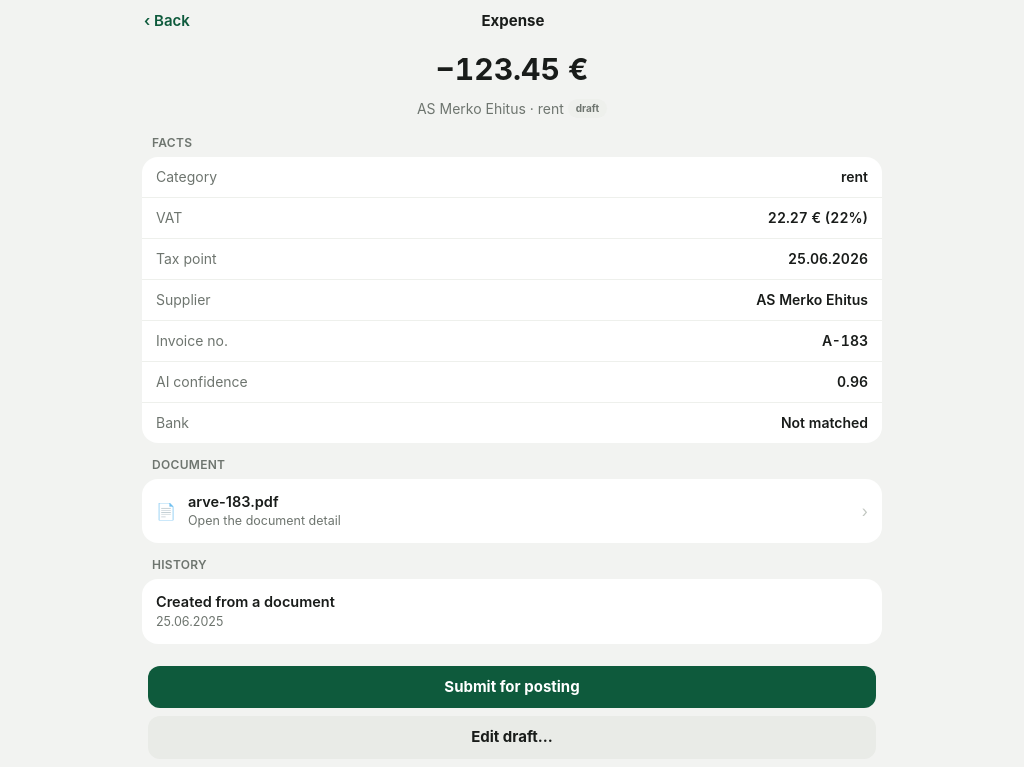
Test: Edit draft expense (issue #247) › blocks invalid amounts/dates client-side (VAT above gross, bad currency)
Click the button "Edit draft…" at point(512, 737), box [148,716,876,758]
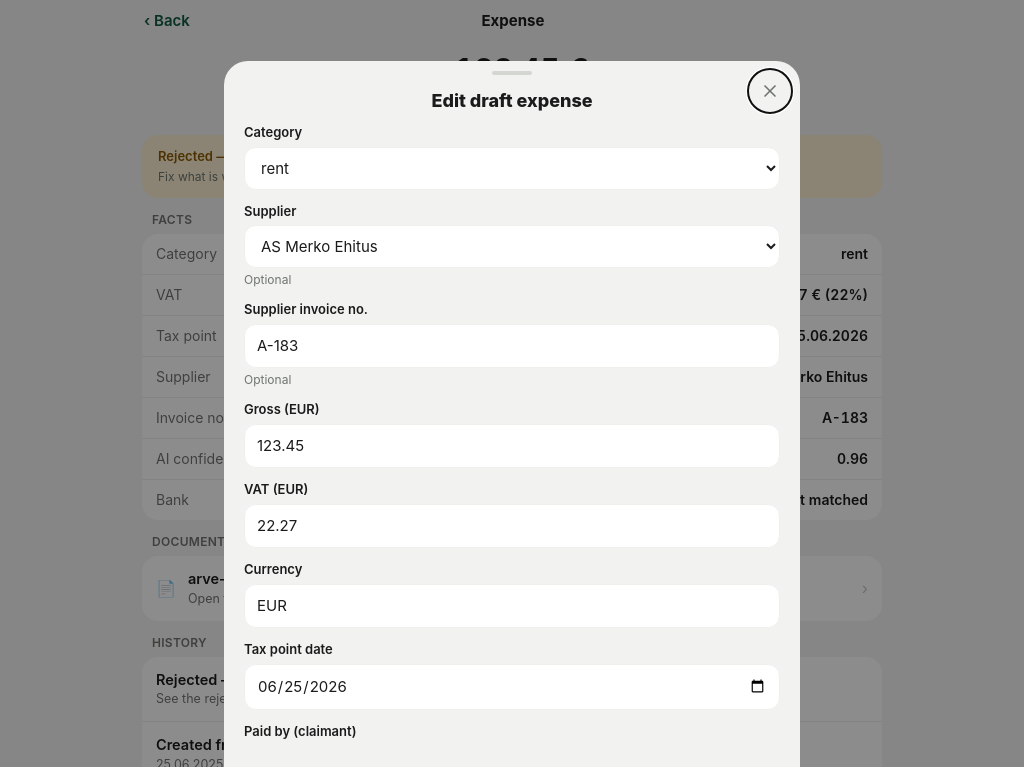
Replace the text in the field labelled "VAT (EUR)" with "200" at point(512, 526), box [244,504,780,548]
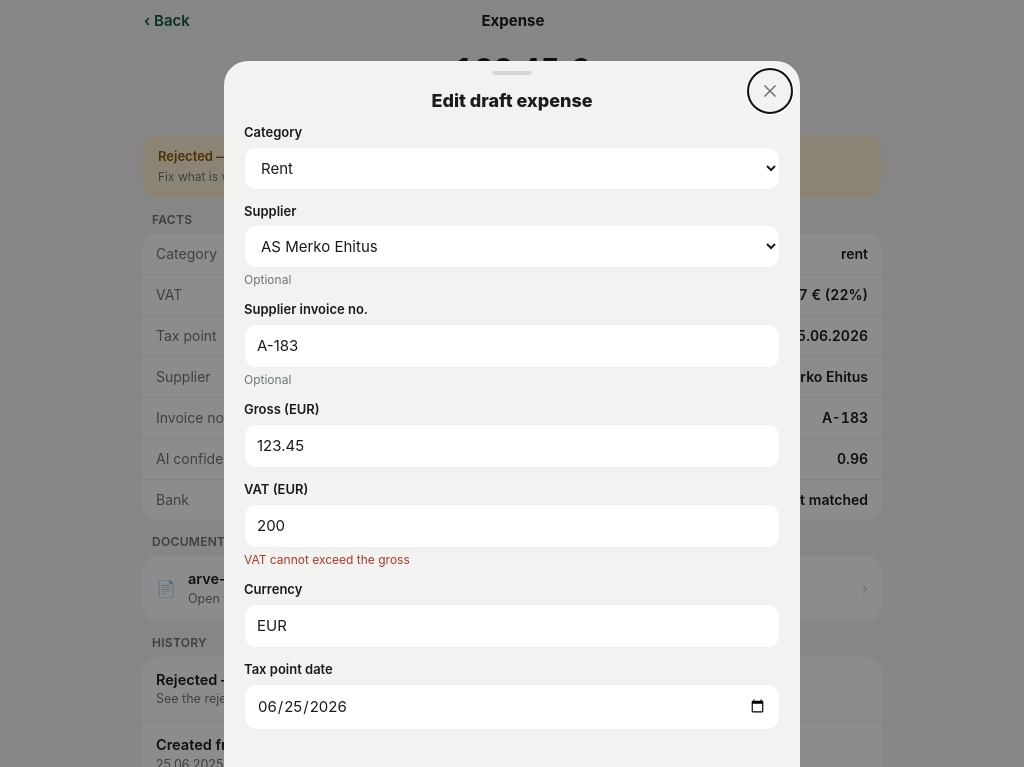
Expected: the text "VAT cannot exceed the gross" is shown, [244,552,410,568]
Replace the text in the field labelled "Currency" with "E1" at point(512, 626), box [244,604,780,648]
(page scrolled)
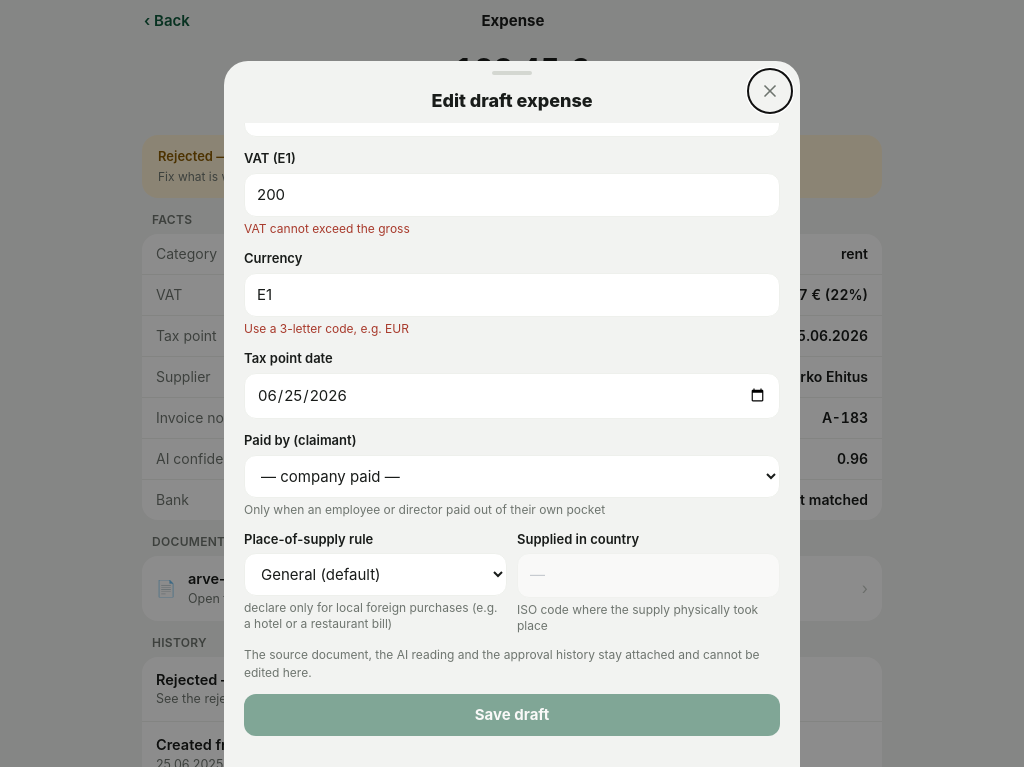
Expected: the text "Use a 3-letter code, e.g. EUR" is shown, [244,322,409,336]
Expected: the button "Save draft" is disabled, [244,694,780,736]
